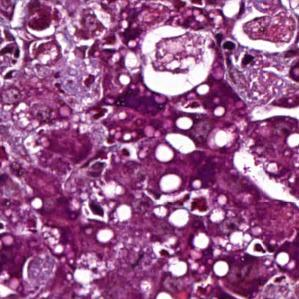ballooning: (139, 23, 218, 100), (229, 10, 299, 55)
